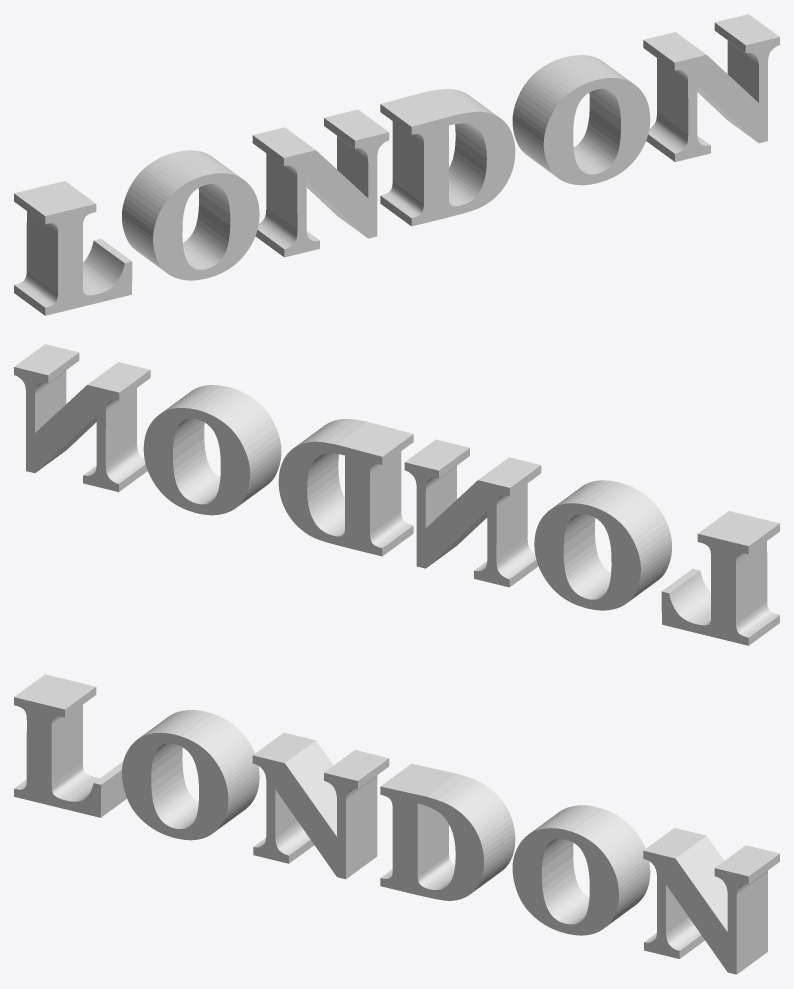
Rendered from london.glb.
3 views of the same model, one above another, from view 1: azimuth 30°, elevation 25°; view 2: azimuth 150°, elevation 25°; view 3: azimuth 330°, elevation 25° (orthographic).
Parts seen in each view (by area): view 1: LONDON 3d; view 2: LONDON 3d; view 3: LONDON 3d.
Boxes of the visible parts, x1,y1,x2,y2 form: LONDON 3d: (14, 14, 779, 315); LONDON 3d: (14, 344, 779, 645); LONDON 3d: (14, 674, 779, 974).
Bounding box in the file's own units: 4.97 × 0.6687 × 0.3657.
1 material, 1 textured.
